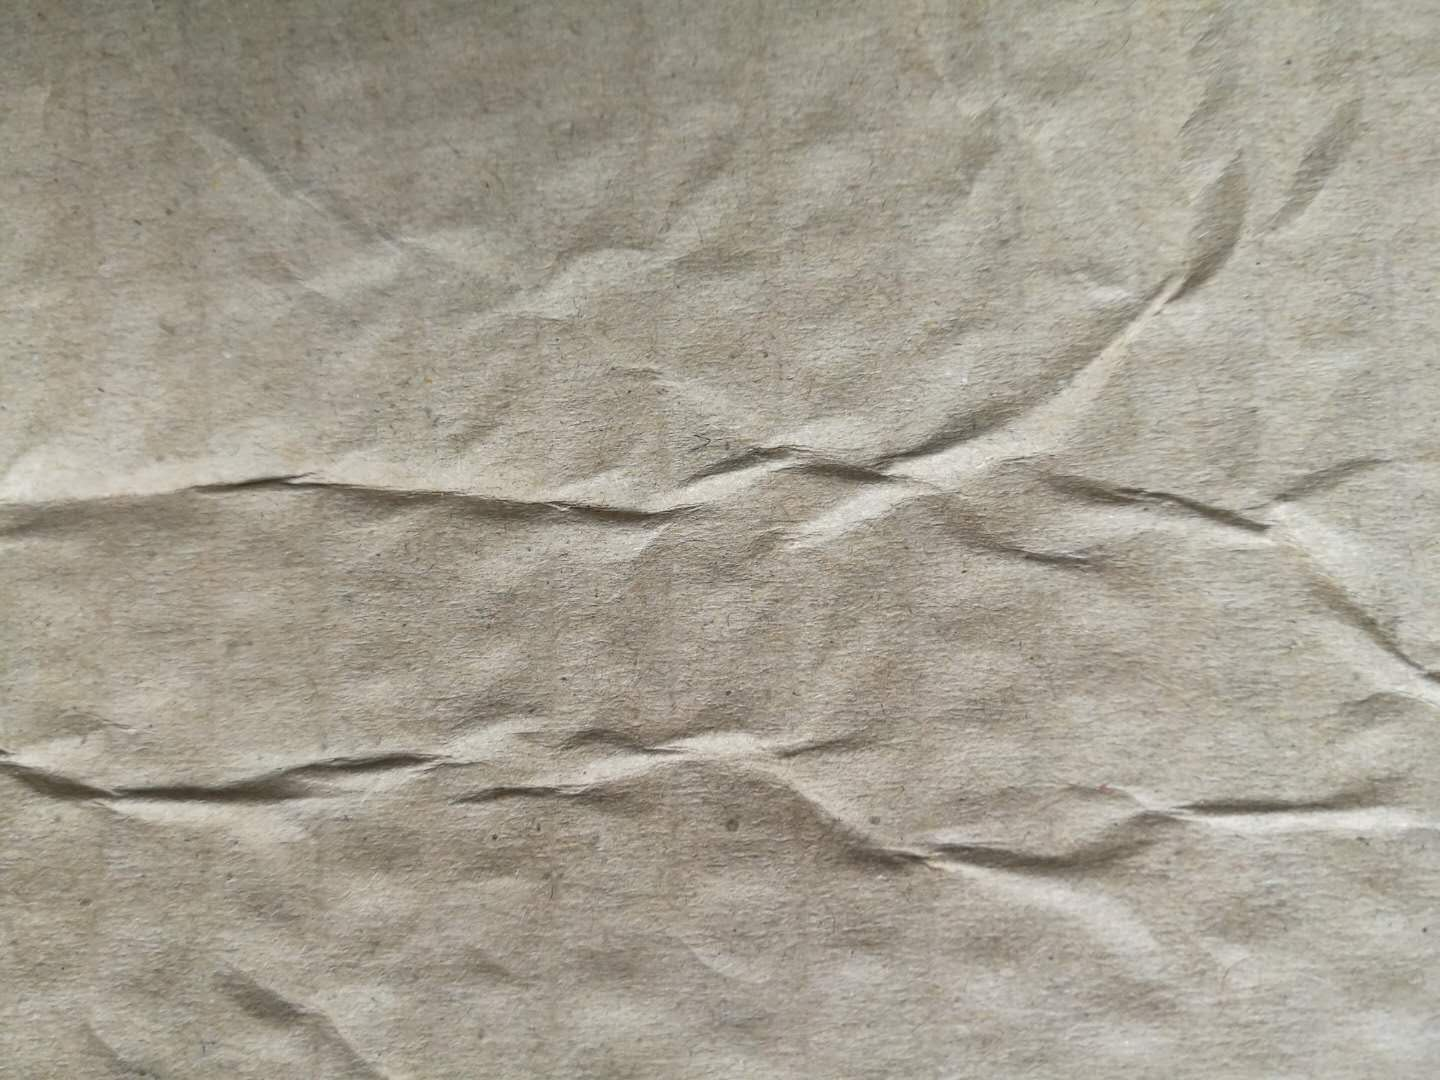defect: (5, 11, 1440, 1077)
